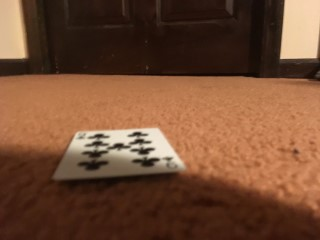NineOfClubs: (52, 127, 187, 179)
